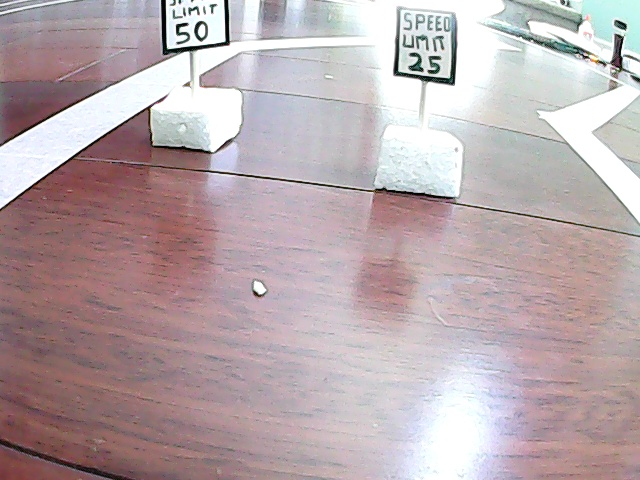speed_25: (372, 1, 475, 202)
speed_50: (156, 1, 246, 152)
